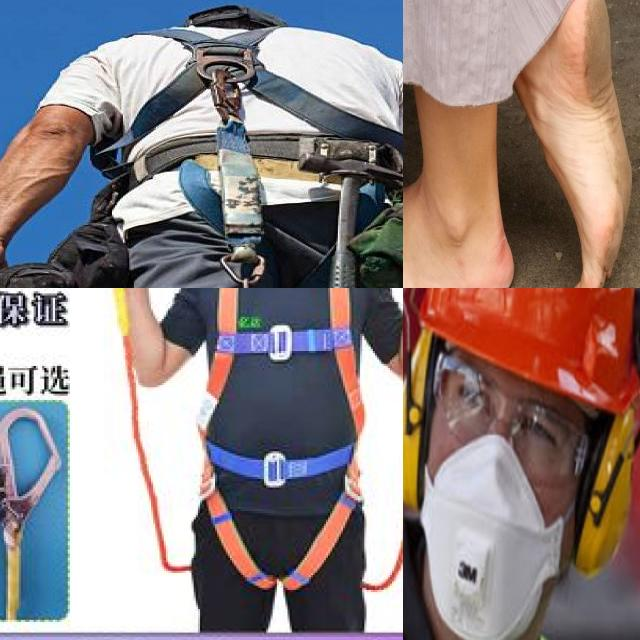Barefoots: (549, 0, 632, 288), (403, 177, 514, 288)
Ear-protection: (403, 288, 640, 640)
Harness: (122, 27, 403, 250), (195, 288, 364, 590)
glasses: (430, 352, 591, 487)
head_helmet: (409, 288, 640, 401)
person: (403, 288, 640, 640)
